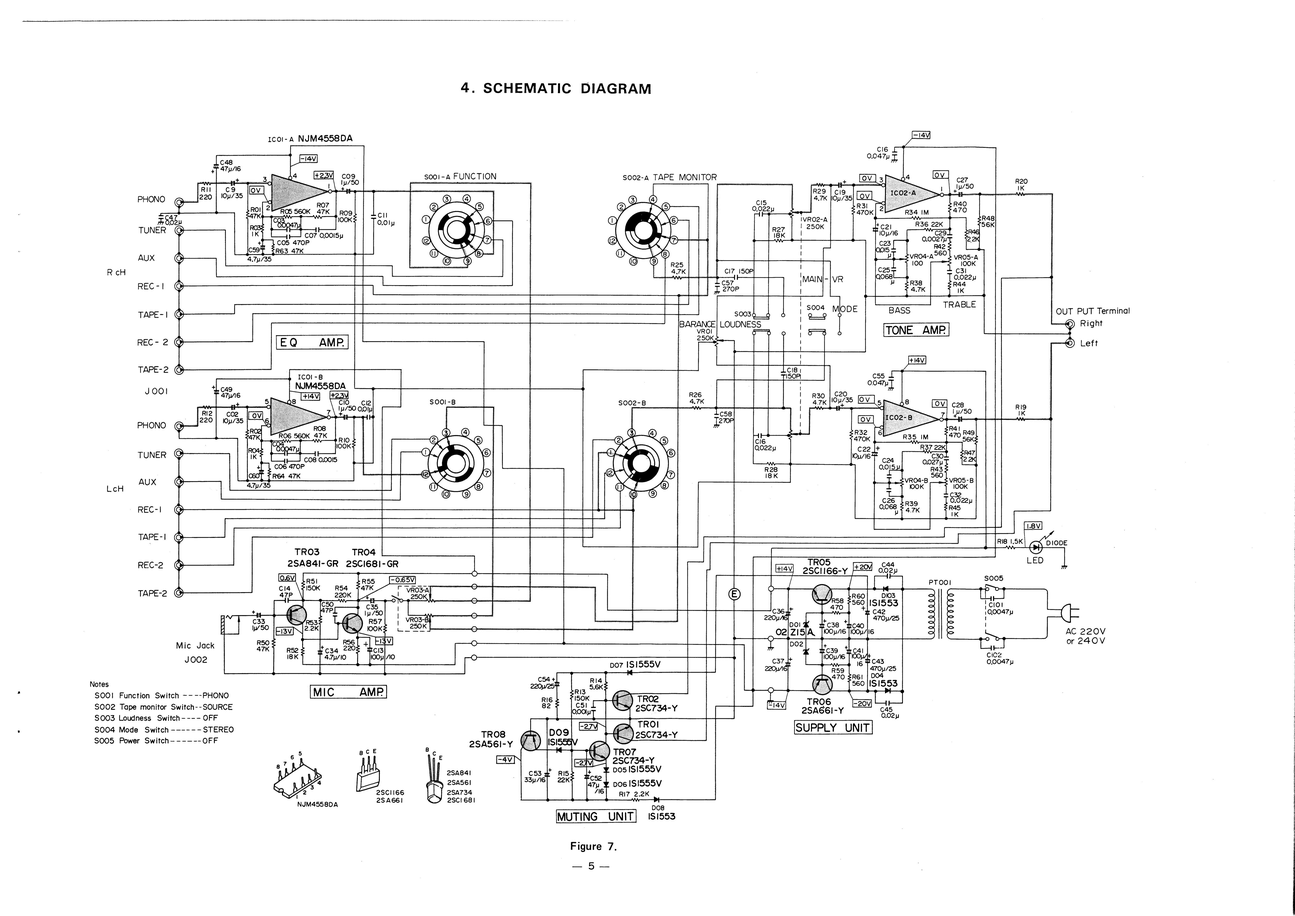C02: (226, 411, 239, 418)
C03: (273, 217, 286, 223)
C04: (272, 441, 285, 447)
C05: (277, 238, 290, 246)
C06: (274, 463, 288, 470)
C07: (305, 232, 317, 238)
C08: (303, 456, 317, 463)
C09: (341, 173, 356, 180)
C10: (338, 399, 350, 406)
C101: (988, 601, 1003, 608)
C102: (985, 651, 1003, 658)
C11: (377, 211, 388, 219)
C12: (360, 399, 372, 406)
C13: (372, 648, 384, 653)
C14: (278, 585, 291, 592)
C15: (755, 200, 768, 206)
C16: (876, 146, 889, 153), (754, 438, 767, 445)
C17: (725, 267, 736, 274)
C18: (786, 367, 798, 373)
C19: (833, 189, 847, 196)
C20: (833, 391, 848, 397)
C21: (880, 223, 892, 230)
C22: (857, 446, 871, 453)
C23: (879, 240, 892, 246)
C24: (881, 456, 895, 464)
C25: (877, 266, 890, 273)
C26: (881, 497, 896, 504)
C27: (956, 176, 969, 183)
C28: (951, 401, 965, 409)
C29: (935, 230, 947, 236)
C30: (931, 452, 944, 459)
C31: (955, 268, 968, 274)
C32: (949, 491, 962, 498)
C33: (252, 618, 266, 625)
C34: (325, 647, 338, 654)
C35: (366, 604, 379, 610)
C36: (772, 607, 785, 614)
C37: (771, 658, 785, 665)
C38: (826, 621, 840, 629)
C39: (826, 647, 839, 654)
C40: (851, 622, 865, 629)
C41: (852, 647, 864, 654)
C42: (872, 608, 886, 615)
C43: (872, 658, 885, 664)
C44: (881, 561, 895, 568)
C45: (879, 706, 894, 713)
C47: (165, 214, 178, 221)
C48: (219, 159, 233, 166)
C49: (220, 386, 233, 392)
C50: (321, 601, 335, 607)
C52: (590, 774, 602, 782)
C53: (528, 770, 542, 777)
C54: (537, 676, 550, 682)
C55: (872, 372, 885, 379)
C57: (721, 279, 733, 286)
C58: (719, 410, 733, 418)
C59: (248, 246, 261, 253)
C60: (247, 473, 260, 479)
C9: (225, 186, 236, 192)
D01: (789, 621, 801, 628)
D02: (789, 641, 804, 647)
D04: (871, 672, 884, 679)
D05: (612, 767, 628, 775)
D06: (613, 781, 628, 788)
D07: (609, 662, 624, 668)
D08: (651, 803, 666, 811)
D09: (549, 727, 569, 737)
D103: (881, 592, 896, 599)
I6: (856, 660, 863, 667)
IC01-A: (266, 135, 295, 144)
IC01-B: (297, 374, 324, 381)
IC02-A: (890, 189, 917, 196)
IC02-B: (885, 413, 914, 422)
J001: (142, 384, 171, 396)
J002: (183, 654, 208, 665)
Lch: (104, 481, 125, 497)
R01: (250, 206, 261, 213)
R02: (249, 427, 262, 434)
R03: (249, 224, 263, 231)
R04: (247, 446, 261, 455)
R05: (280, 208, 293, 215)
R06: (278, 433, 292, 439)
R07: (316, 202, 330, 209)
R08: (313, 425, 327, 432)
R09: (339, 209, 353, 216)
R10: (338, 436, 350, 443)
R11: (200, 186, 212, 193)
R12: (201, 410, 213, 417)
R13: (573, 688, 586, 695)
R14: (589, 677, 603, 684)
R15: (557, 770, 570, 777)
R16: (540, 696, 554, 703)
R18: (996, 538, 1008, 545)
R19: (1014, 403, 1027, 410)
R20: (1014, 178, 1030, 185)
R25: (669, 261, 684, 269)
R26: (688, 390, 703, 399)
R27: (771, 226, 786, 233)
R28: (763, 466, 779, 473)
R29: (812, 188, 827, 195)
R30: (812, 392, 826, 400)
R31: (855, 202, 869, 209)
R32: (854, 429, 868, 436)
R34: (904, 209, 919, 216)
R35: (902, 433, 917, 441)
R36: (915, 220, 929, 227)
R37: (919, 443, 933, 450)
R38: (910, 279, 923, 286)
R39: (904, 501, 918, 507)
R40: (953, 200, 968, 207)
R41: (948, 425, 961, 432)
R43: (930, 466, 944, 472)
R44: (952, 281, 967, 287)
R45: (948, 505, 961, 511)
R46: (968, 229, 980, 234)
R47: (964, 449, 976, 455)
R48: (981, 215, 995, 222)
R49: (962, 429, 975, 436)
R50: (256, 639, 270, 646)
R51: (305, 577, 319, 585)
R52: (286, 647, 300, 654)
R53: (305, 619, 318, 625)
R54: (334, 584, 350, 593)
R55: (362, 577, 375, 584)
R56: (343, 639, 355, 646)
R57: (368, 617, 382, 626)
R58: (831, 597, 845, 604)
R59: (831, 667, 845, 673)
R60: (851, 593, 865, 599)
R61: (852, 674, 863, 681)
R64: (272, 472, 285, 479)
Rch: (104, 266, 128, 278)
S001-A: (423, 173, 451, 181)
S001-B: (429, 397, 457, 408)
S002-A: (621, 173, 650, 182)
S002-B: (617, 399, 647, 406)
S003: (733, 309, 752, 317)
S004: (806, 303, 825, 312)
S005: (983, 574, 1006, 584)
TR01: (637, 720, 661, 729)
TR02: (637, 695, 660, 704)
TR03: (293, 547, 321, 557)
TR04: (350, 546, 376, 556)
TR05: (807, 557, 831, 567)
TR06: (805, 695, 834, 706)
TR07: (612, 747, 637, 756)
TR08: (481, 731, 506, 739)
VR01: (697, 328, 713, 335)
VR02-A: (802, 215, 829, 223)
VR03-A: (405, 587, 429, 594)
VR03-B: (405, 616, 429, 623)
VR04-A: (909, 253, 932, 260)
VR04-B: (904, 477, 929, 484)
VR05-A: (954, 253, 979, 261)
VR05-B: (948, 477, 974, 484)
